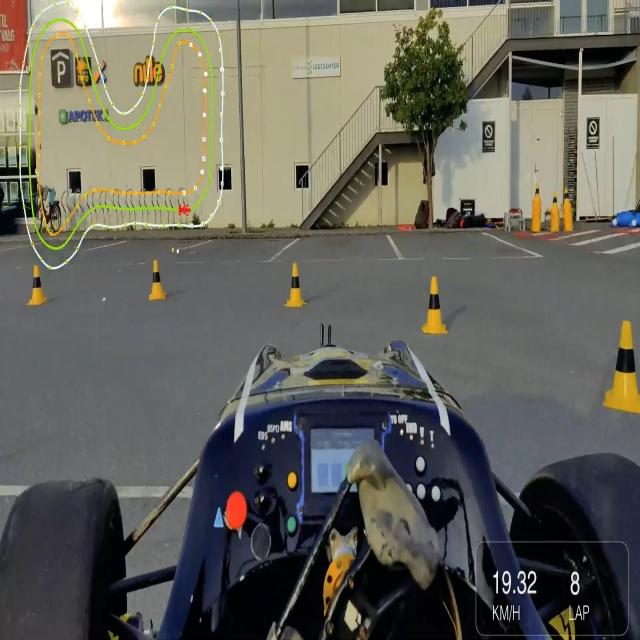yellow_cone: (603, 302, 640, 419), (421, 273, 449, 336), (284, 260, 308, 310), (26, 264, 49, 309), (148, 257, 166, 303), (562, 188, 572, 212), (532, 181, 541, 202), (551, 191, 559, 212)
